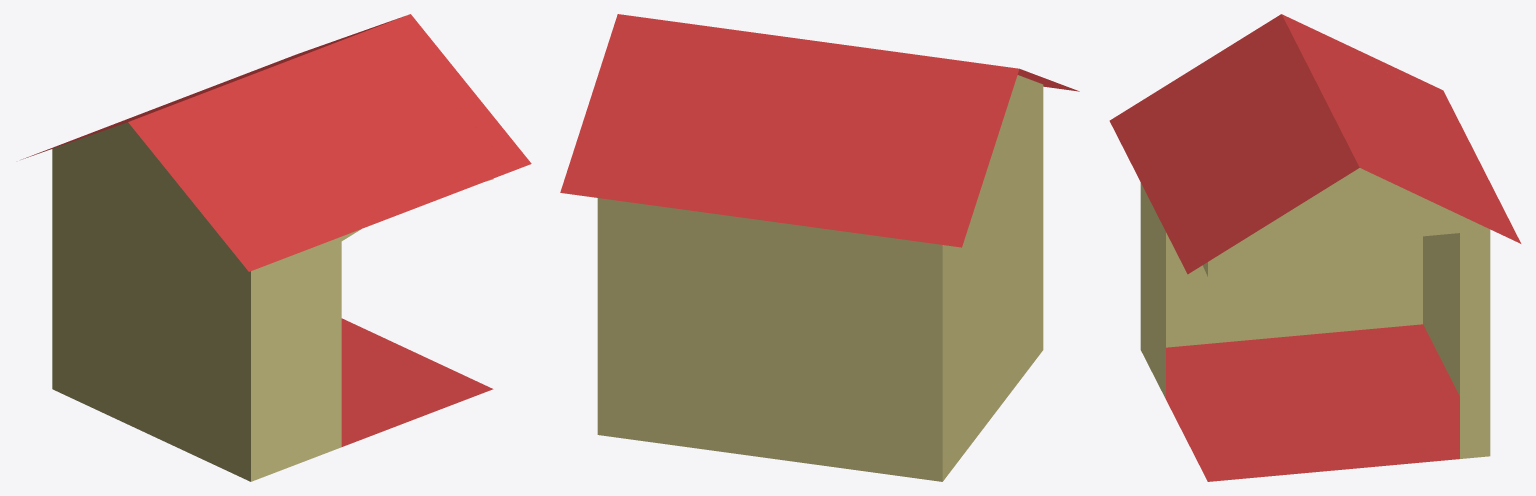
3 renders of one model, left to right at view 1: azimuth 30°, elevation 25°; view 2: azimuth 150°, elevation 25°; view 3: azimuth 270°, elevation 25°, orthographic. The views are drawn at different scales.
Size of the model in its own units: 16.54 by 15.64 by 13.06.
